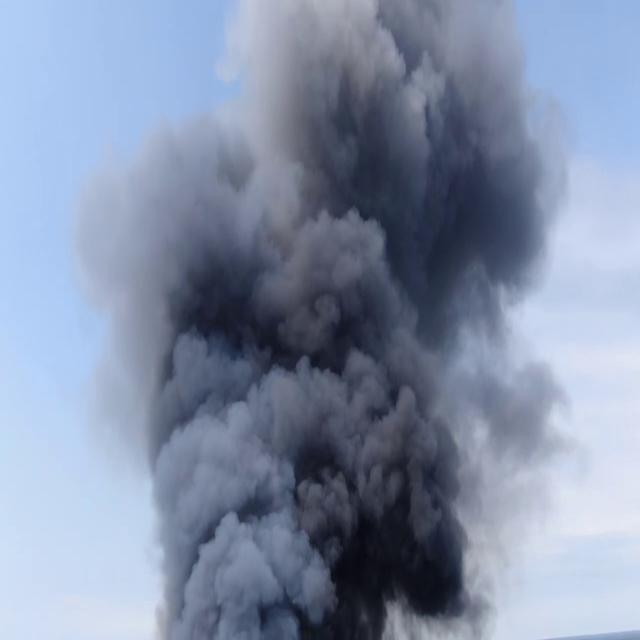Smoke: (83, 0, 569, 638)
